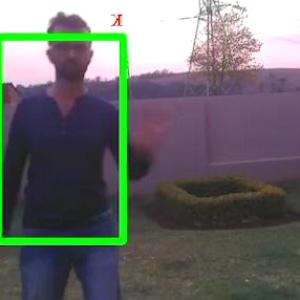follow_hand: (129, 96, 180, 153)
